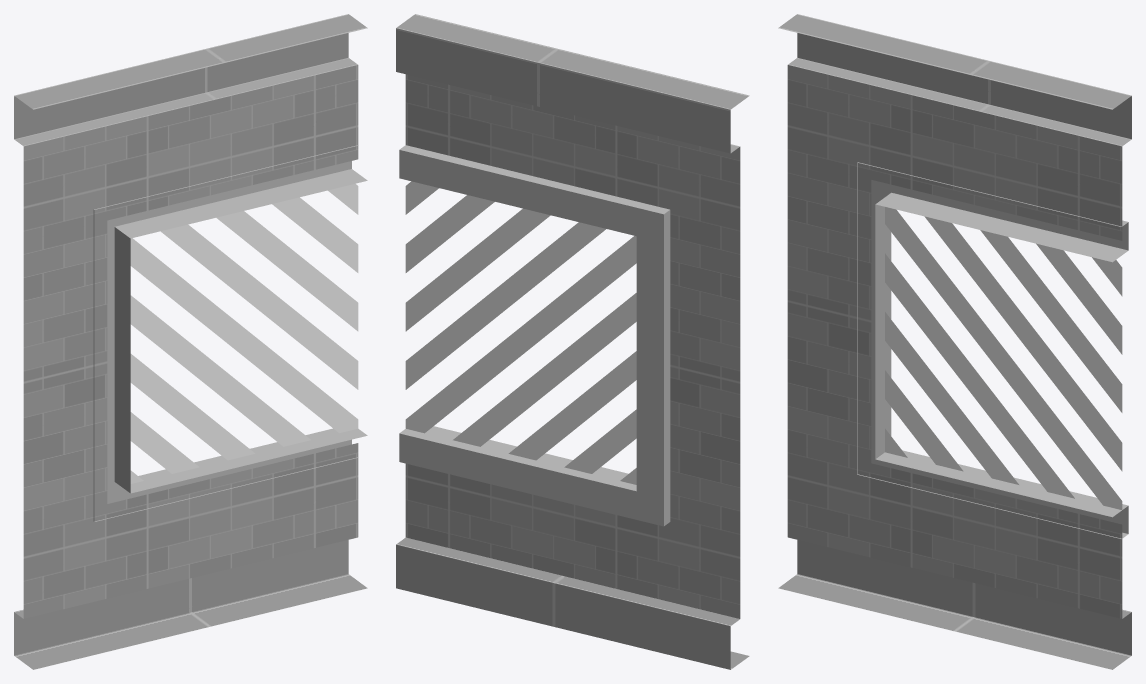
The model's file is proto_wall_windows_R_01.fbx.
3 renders of one model, left to right at view 1: azimuth 30°, elevation 25°; view 2: azimuth 150°, elevation 25°; view 3: azimuth 330°, elevation 25°, orthographic.
Visible parts, largest first — view 1: proto_wall_windows_R_01; view 2: proto_wall_windows_R_01; view 3: proto_wall_windows_R_01.
Part boxes in pixels (<box>): proto_wall_windows_R_01: <box>14,14,367,669</box>; proto_wall_windows_R_01: <box>396,14,749,669</box>; proto_wall_windows_R_01: <box>778,14,1131,669</box>.
Size of the model in its own units: 200 by 320 by 20.
